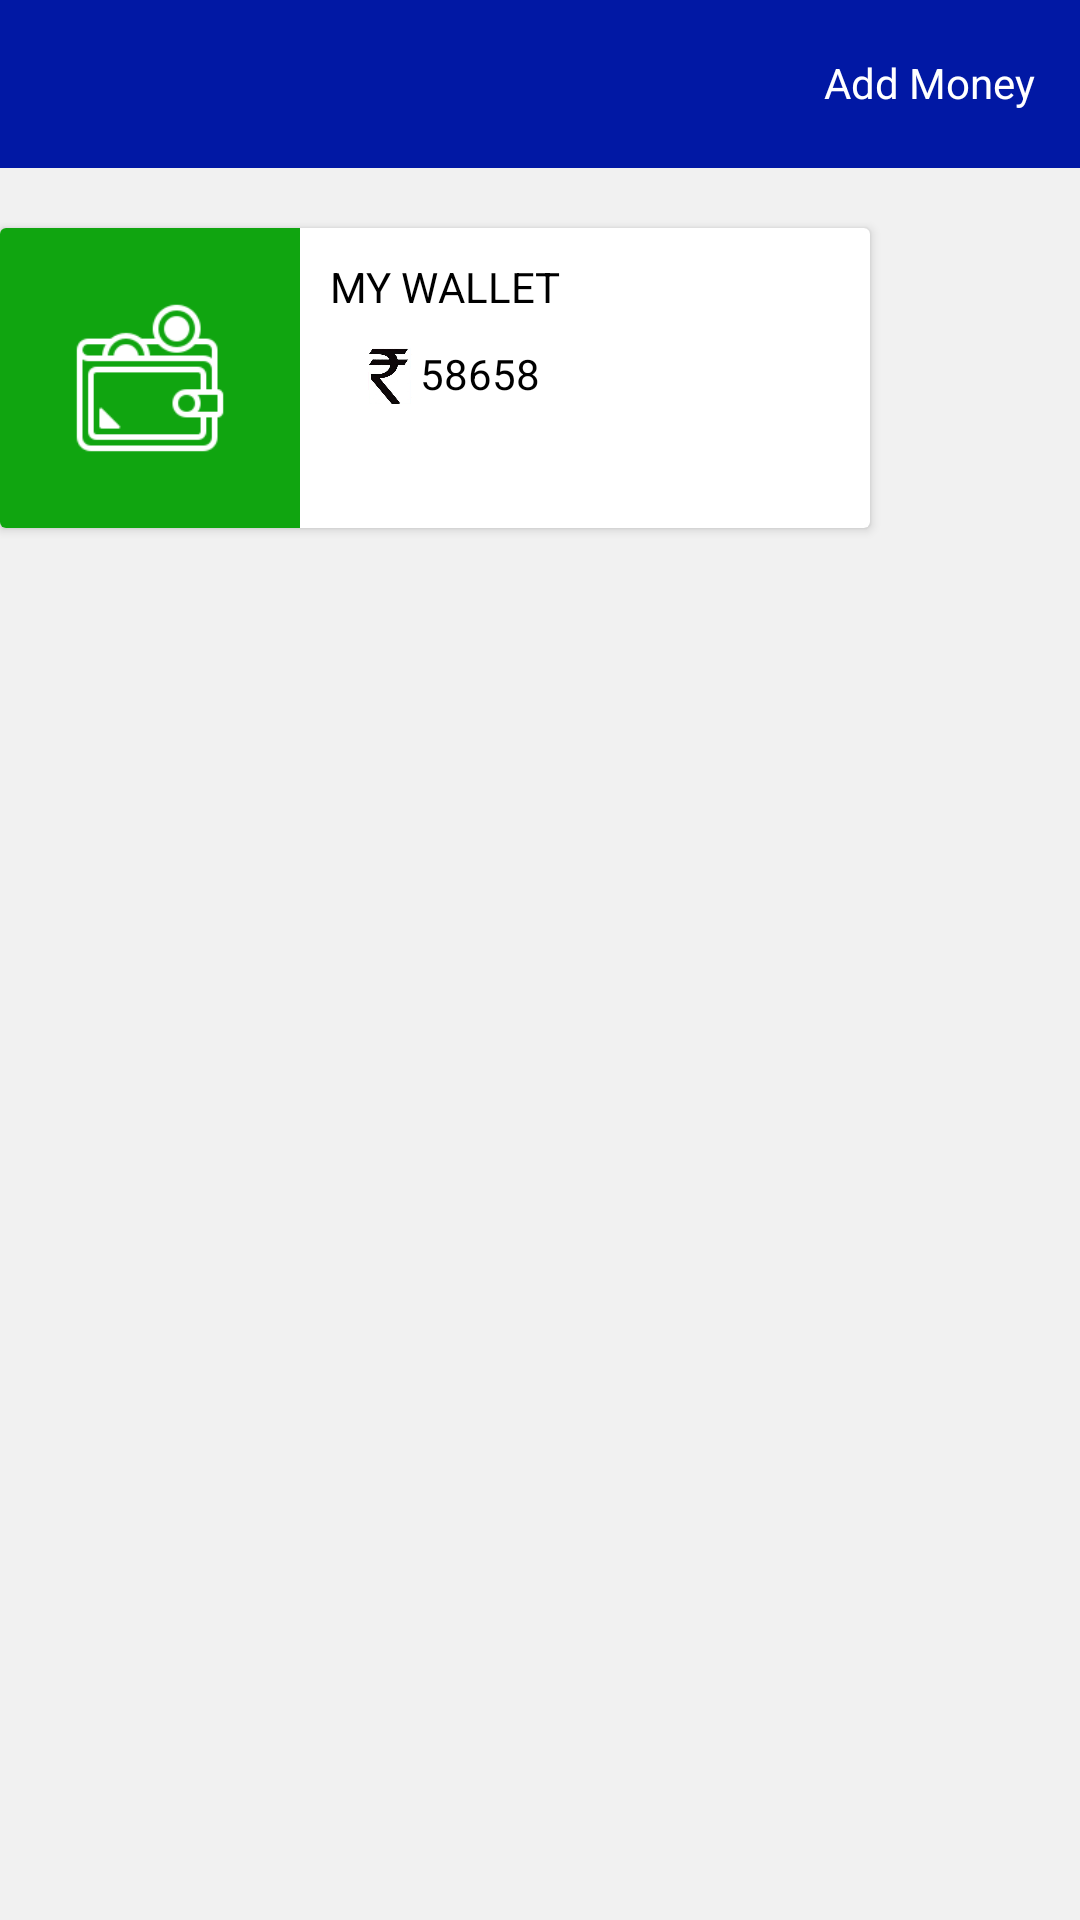

Screen size 1080×1920. Icon name, then its center in pixels as point (x, y):
rupee: point (388, 376)
